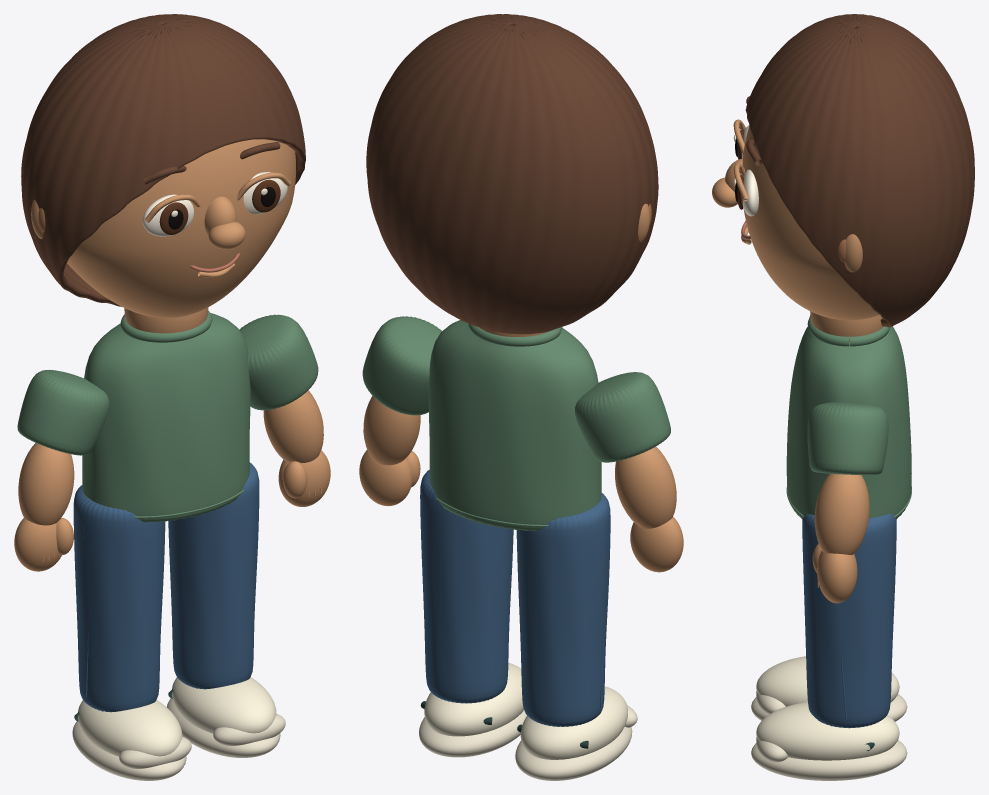
File: female-bob.glb
3 views of the same model, side by side, from view 1: azimuth 30°, elevation 25°; view 2: azimuth 150°, elevation 25°; view 3: azimuth 270°, elevation 25° (orthographic). The views are drawn at different scales.
Parts seen in each view (by area): view 1: Hair | shaped continuous hairstyle.001, Cotton tee | tailored body.001, Face | sculpted soft jaw.001, Trousers | tapered leg.002, Trousers | tapered leg.003, Tee | tailored short sleeve.002, Tee | tailored short sleeve.003, Sneaker | canvas upper.002, Sneaker | canvas upper.003, Arm | forearm.002, Arm | forearm.003, Hand | palm.002 (+11 smaller); view 2: Hair | shaped continuous hairstyle.001, Cotton tee | tailored body.001, Trousers | tapered leg.002, Trousers | tapered leg.003, Tee | tailored short sleeve.002, Tee | tailored short sleeve.003, Arm | forearm.002, Sneaker | canvas upper.002, Sneaker | canvas upper.003, Arm | forearm.003, Sneaker | rubber sole.002, Sneaker | rubber sole.003 (+3 smaller); view 3: Hair | shaped continuous hairstyle.001, Trousers | tapered leg.003, Cotton tee | tailored body.001, Face | sculpted soft jaw.001, Tee | tailored short sleeve.003, Sneaker | canvas upper.003, Arm | forearm.003, Sneaker | rubber sole.003, Sneaker | canvas upper.002, Hand | palm.003, Neck.001, Tee | ribbed crew neck.001 (+5 smaller).
Part boxes in pixels (<box>): Hair | shaped continuous hairstyle.001: <box>21,14,305,306</box>; Cotton tee | tailored body.001: <box>82,313,250,522</box>; Face | sculpted soft jaw.001: <box>67,139,295,317</box>; Trousers | tapered leg.002: <box>73,485,165,712</box>; Trousers | tapered leg.003: <box>168,462,259,689</box>; Tee | tailored short sleeve.002: <box>17,369,109,455</box>; Tee | tailored short sleeve.003: <box>239,314,318,410</box>; Sneaker | canvas upper.002: <box>78,700,182,756</box>; Sneaker | canvas upper.003: <box>172,677,276,733</box>; Arm | forearm.002: <box>18,443,74,525</box>; Arm | forearm.003: <box>263,390,323,462</box>; Hand | palm.002: <box>14,518,61,571</box>; Hair | shaped continuous hairstyle.001: <box>366,14,658,334</box>; Cotton tee | tailored body.001: <box>428,320,601,530</box>; Trousers | tapered leg.002: <box>516,493,610,726</box>; Trousers | tapered leg.003: <box>420,470,513,703</box>; Tee | tailored short sleeve.002: <box>575,372,670,462</box>; Tee | tailored short sleeve.003: <box>362,316,441,415</box>; Arm | forearm.002: <box>615,446,676,528</box>; Sneaker | canvas upper.002: <box>520,686,627,759</box>; Sneaker | canvas upper.003: <box>424,662,523,736</box>; Arm | forearm.003: <box>363,395,420,465</box>; Sneaker | rubber sole.002: <box>515,727,632,780</box>; Sneaker | rubber sole.003: <box>419,710,526,757</box>; Hair | shaped continuous hairstyle.001: <box>745,14,974,327</box>; Trousers | tapered leg.003: <box>802,514,896,728</box>; Cotton tee | tailored body.001: <box>786,326,911,518</box>; Face | sculpted soft jaw.001: <box>742,126,879,320</box>; Tee | tailored short sleeve.003: <box>807,401,888,475</box>; Sneaker | canvas upper.003: <box>756,702,899,760</box>; Arm | forearm.003: <box>814,473,869,554</box>; Sneaker | rubber sole.003: <box>751,740,907,780</box>; Sneaker | canvas upper.002: <box>756,656,899,706</box>; Hand | palm.003: <box>817,550,857,603</box>; Neck.001: <box>810,311,883,341</box>; Tee | ribbed crew neck.001: <box>807,315,890,346</box>.
Bounding box in the file's own units: 1.13 × 2.49 × 0.8212.
